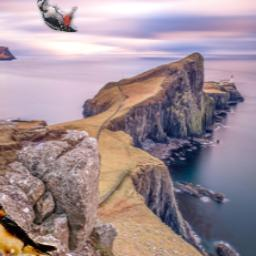Swallow: (0, 199, 67, 256)
Woodpecker: (37, 0, 77, 33)
